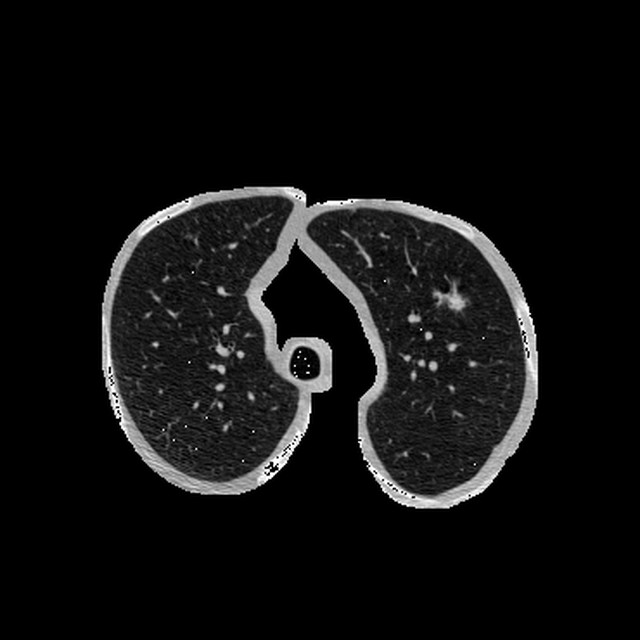PN: (438, 285, 465, 313)
